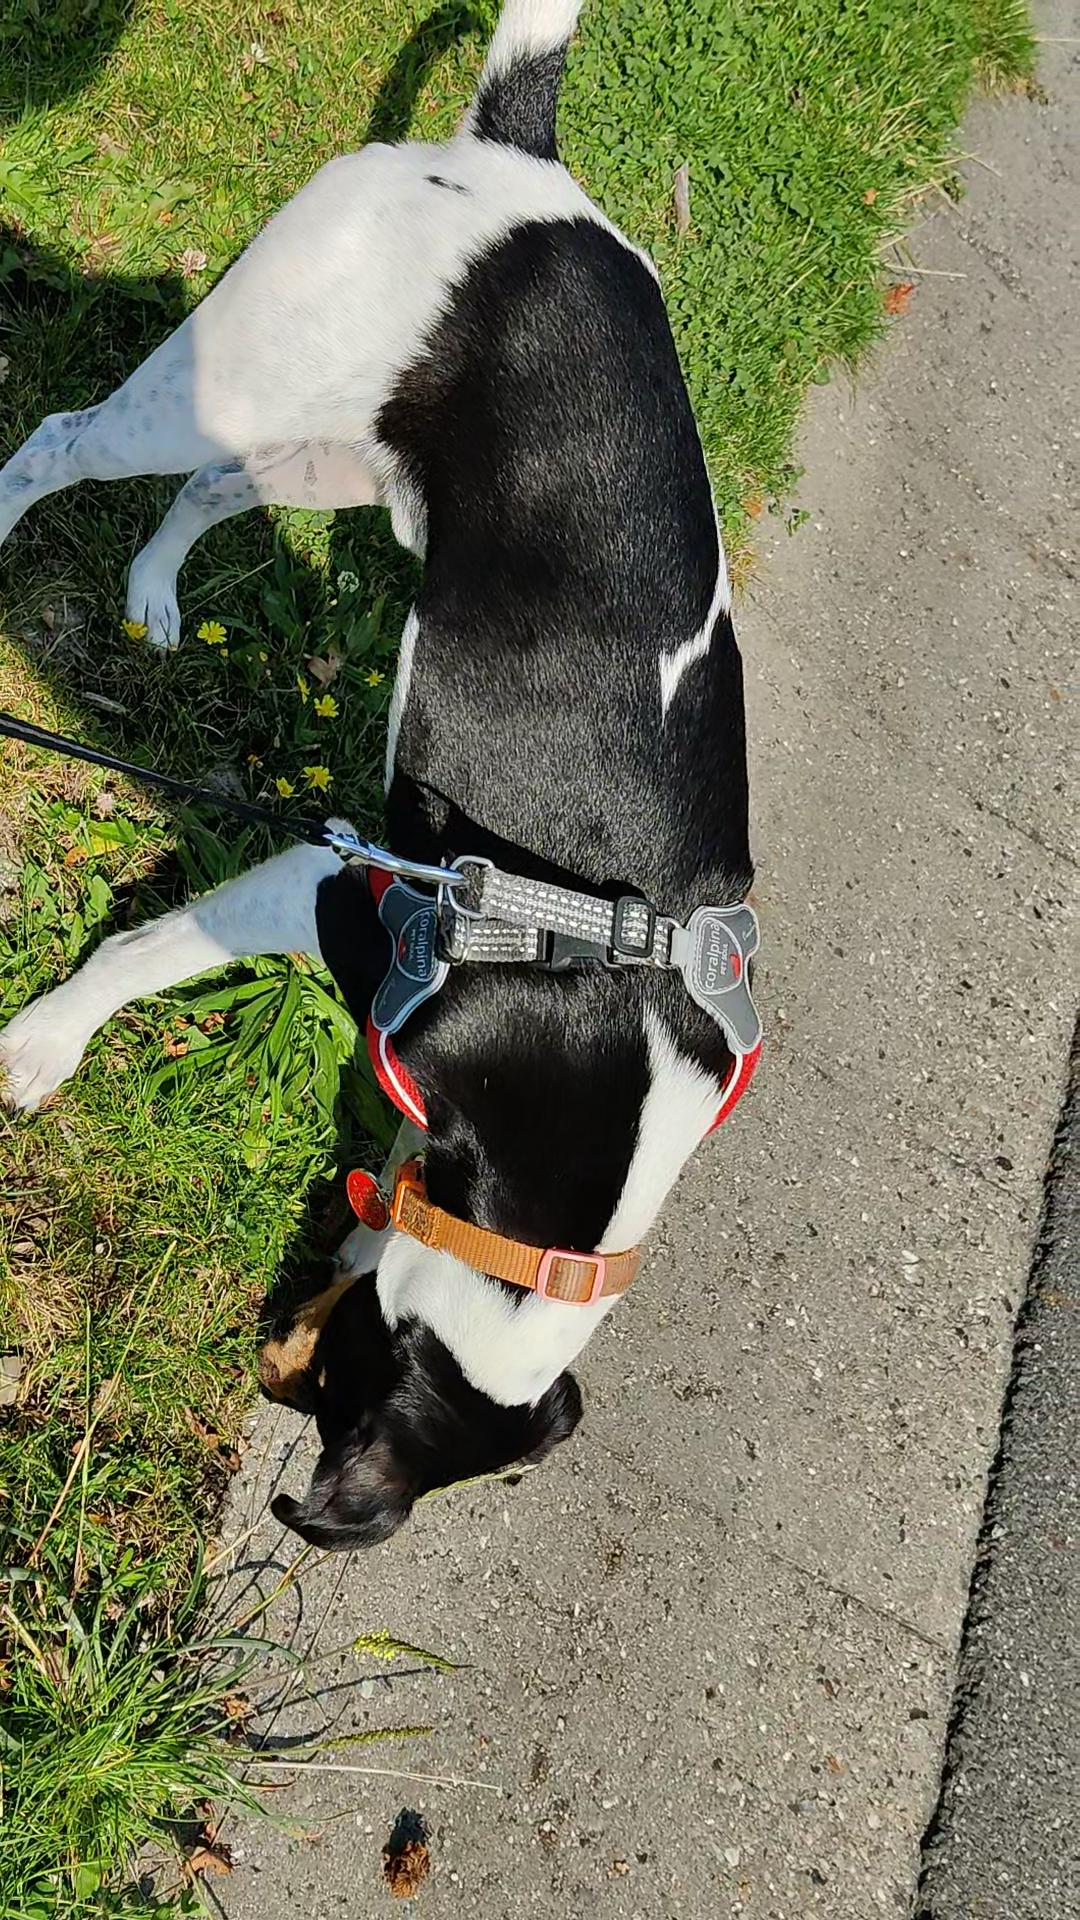Dog: (0, 0, 782, 1559)
